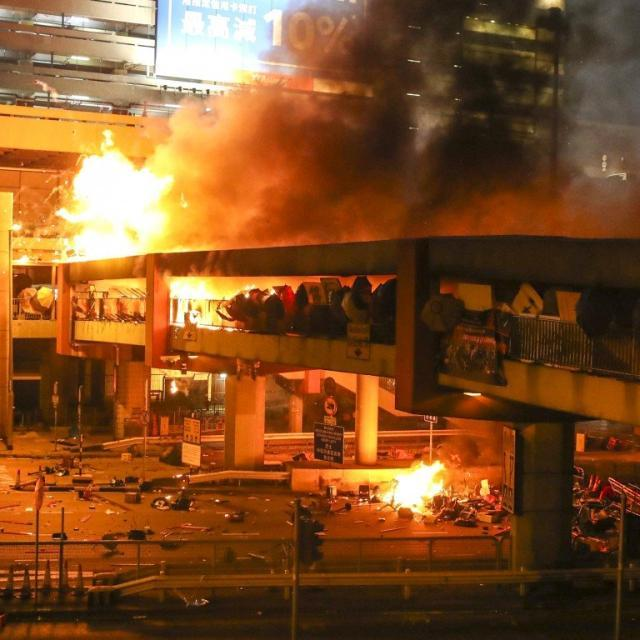Fire: (21, 122, 165, 259), (134, 270, 234, 392), (346, 443, 465, 539)
Smoke: (391, 0, 638, 242), (166, 6, 390, 243)
